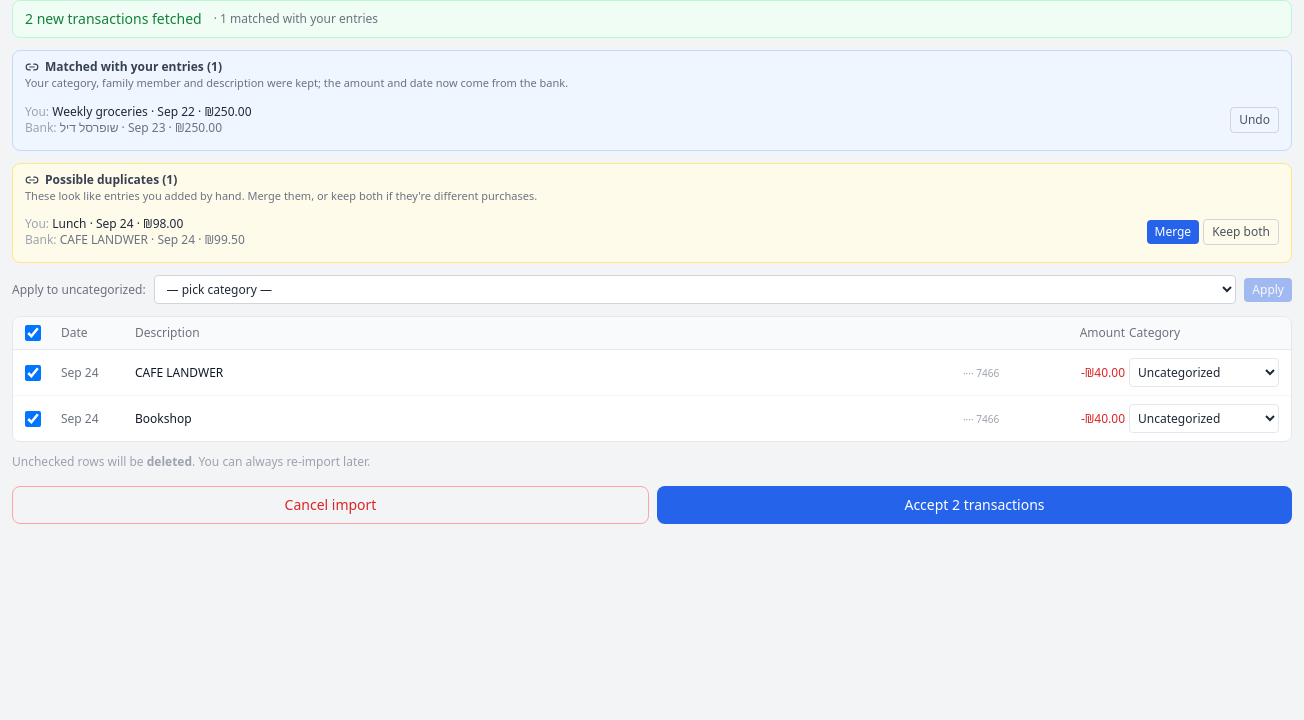
Test: ImportReviewStep matching › keeps both without touching the data
Click the button "Keep both": coordinates (1241, 232) [1203,219,1279,245]
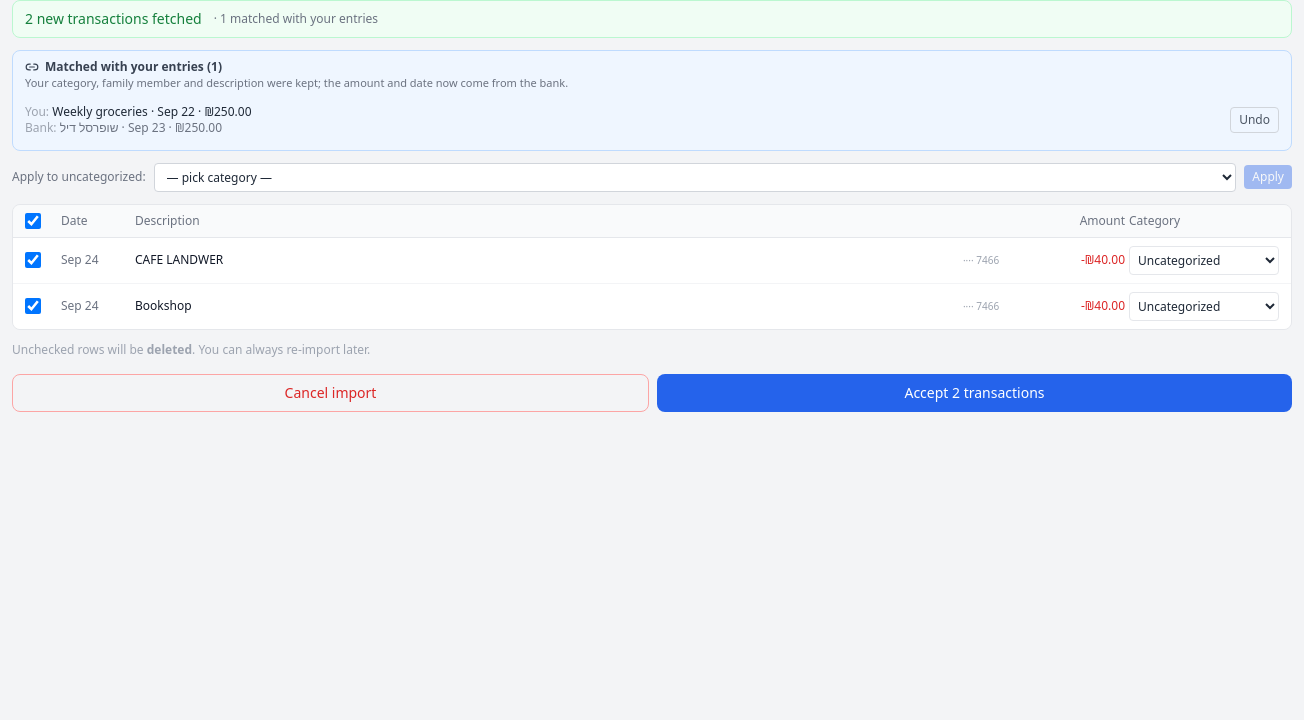
Now the text "Possible duplicates" is gone
